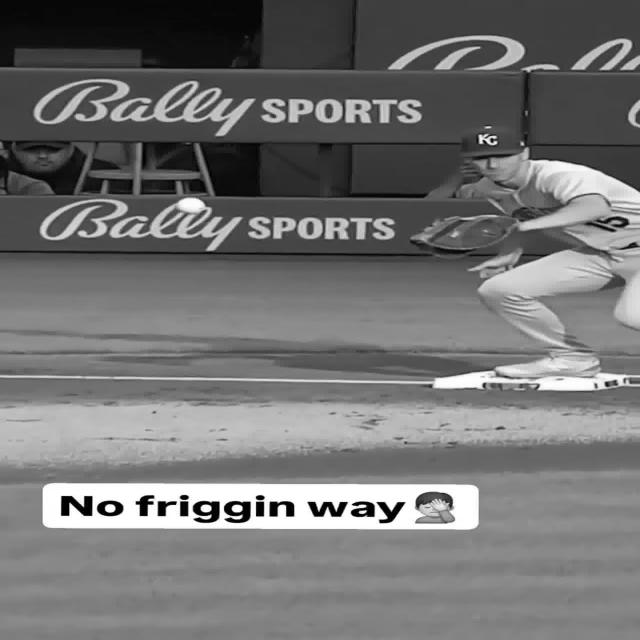base: (431, 371, 640, 391)
baseball: (176, 198, 207, 214)
baseball_glove: (411, 215, 518, 256)
shoe: (493, 355, 600, 379)
